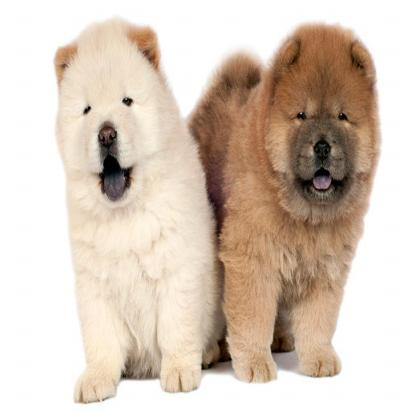Chowchow: (42, 22, 228, 416), (203, 6, 382, 399)
